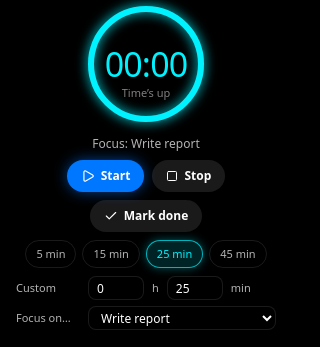
TimerTool › with a linked task, "Mark done" appears on completion and completes the task
The width and height of the screenshot is (320, 347).
What coordinates should you click on to do the following:
click the button "Mark done"
I would click on:
 (146, 216)
Its box is [90,200,202,232].
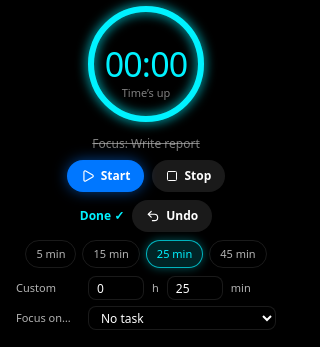
Result: the button "Mark done" is gone
Result: the text "Done ✓" is shown at [80,207,124,225]
